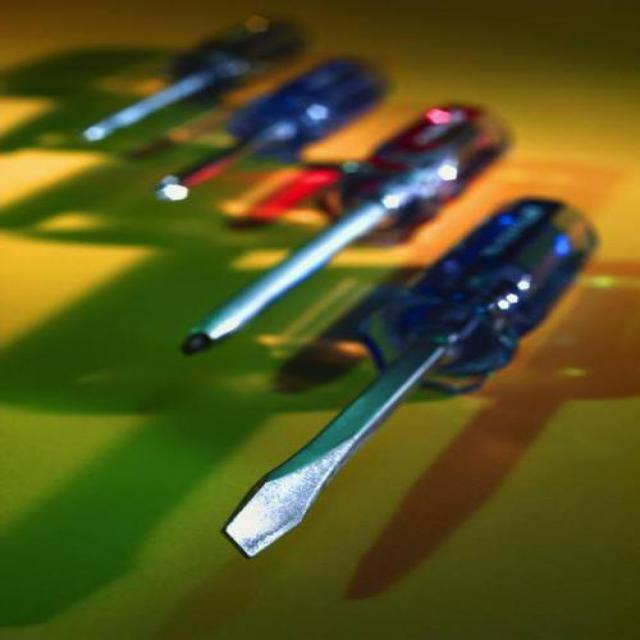screwdriver: (206, 193, 616, 570), (161, 89, 517, 352), (136, 48, 394, 212), (68, 1, 332, 139)
